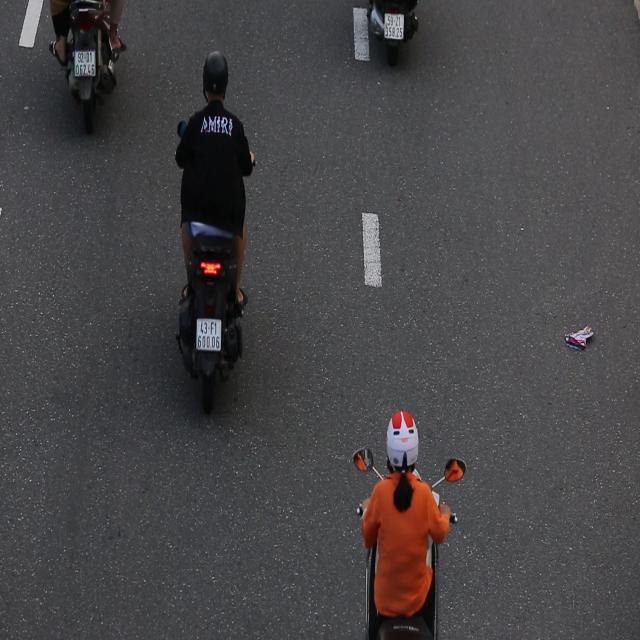motorbike: (169, 33, 265, 433)
